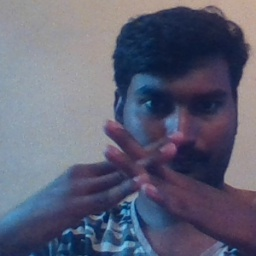W: (77, 107, 203, 219)
